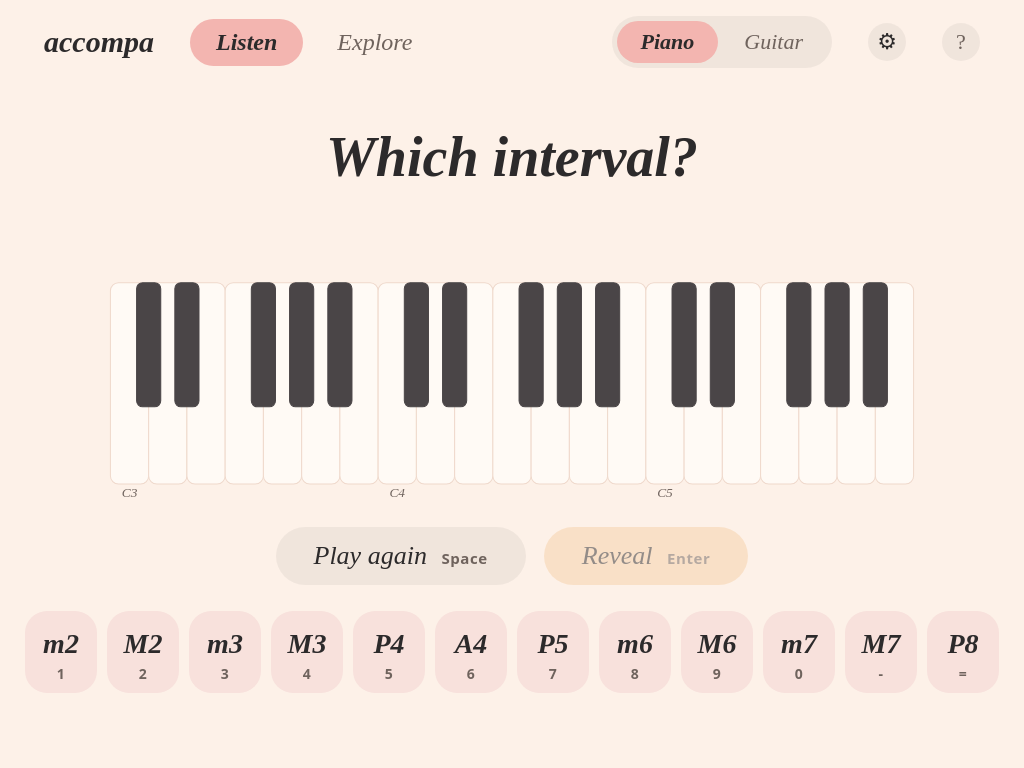
Test: chord Listen › disables Direction and Root in Chords and restores the interval question
Click the button named "Setup" at (887, 42), box [868,23,906,61]
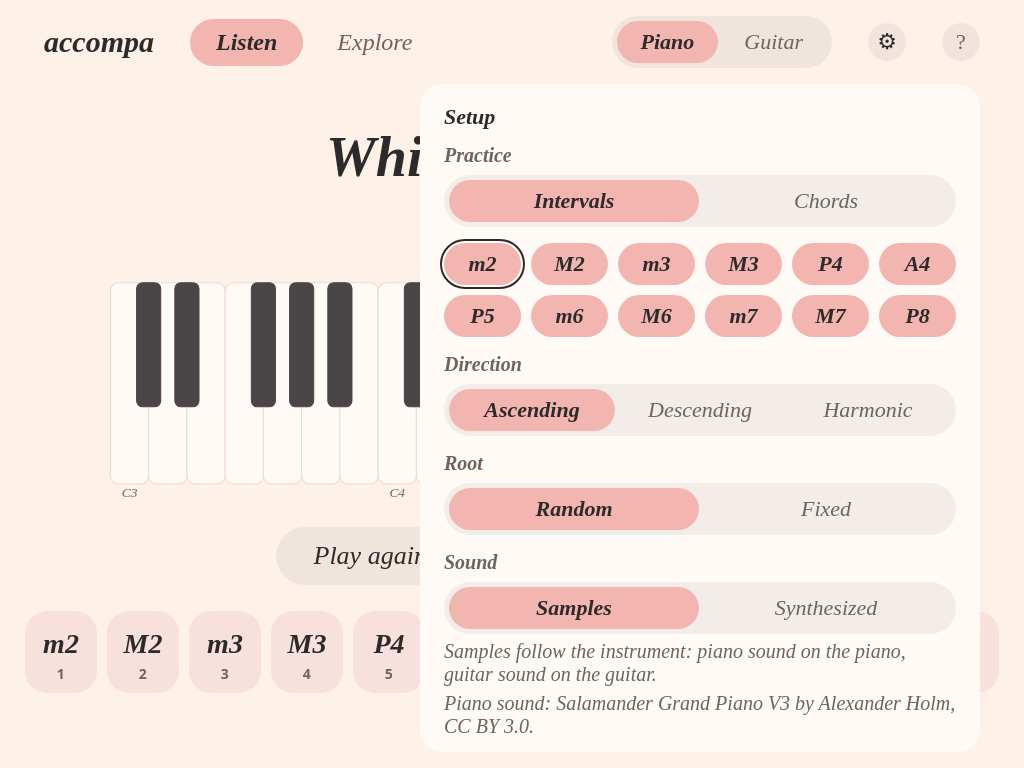
Click the radio button labelled "Chords" at (826, 200), box [794,188,858,213]
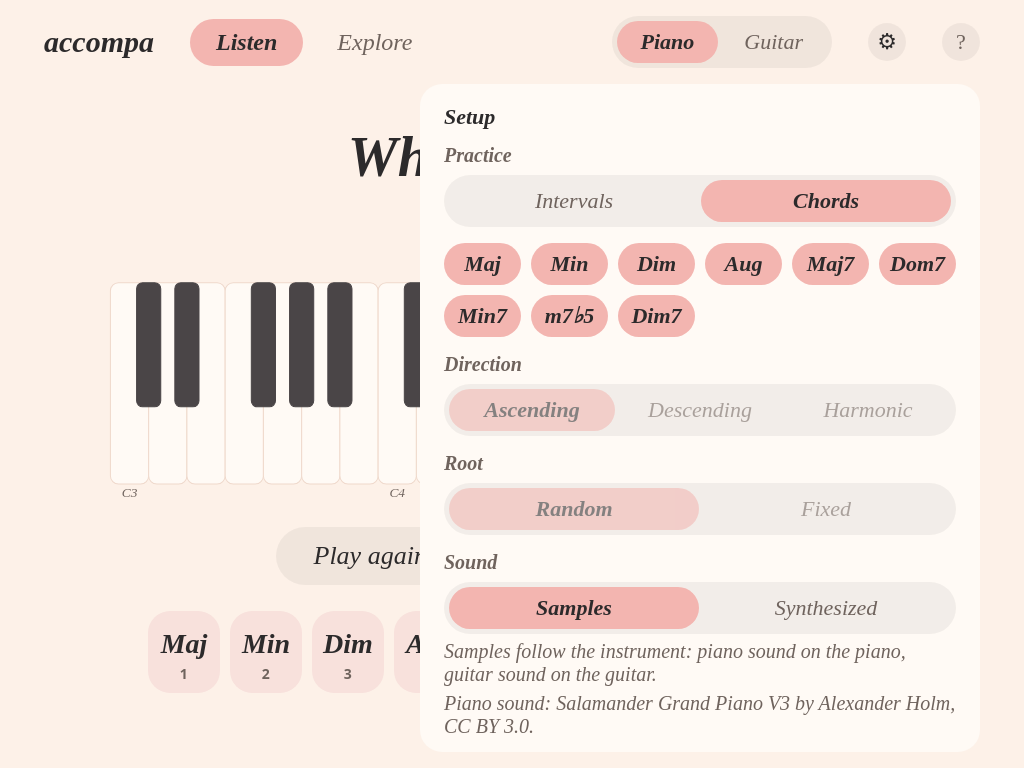
Now the radio button labelled "Ascending" is disabled, box [449,389,615,431]
Now the radio button labelled "Fixed" is disabled, box [801,496,851,521]
Click the radio button labelled "Intervals" at (574, 200), box [535,188,613,213]
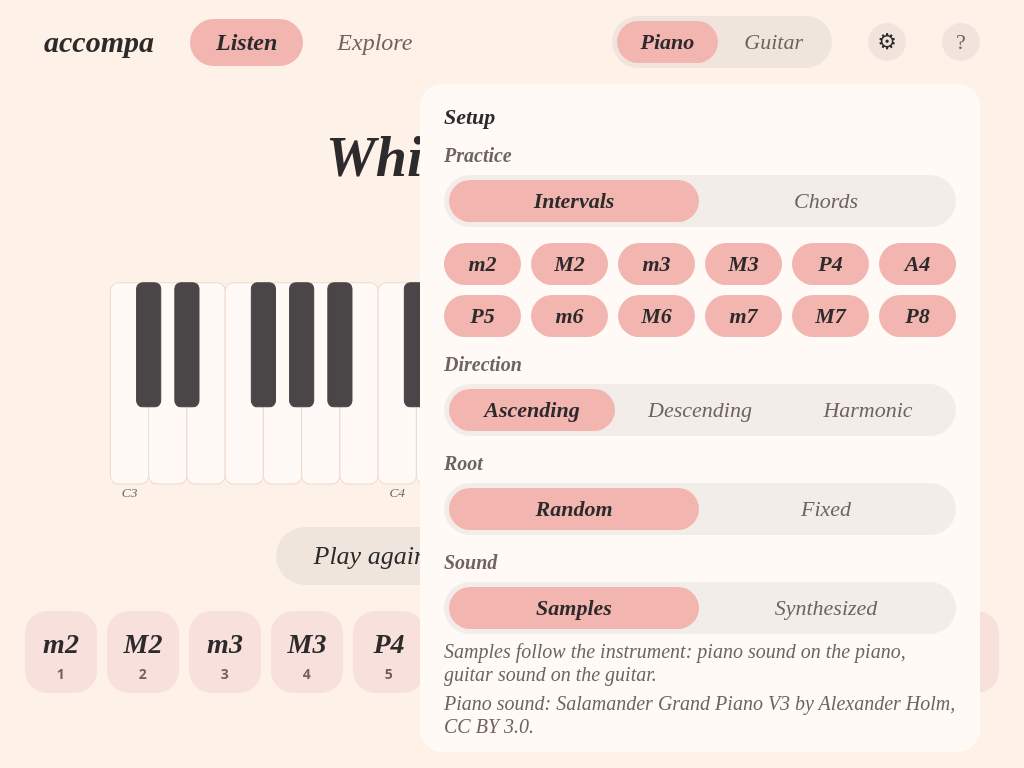
Now the radio button labelled "Ascending" is enabled, box [449,389,615,431]
Now the text "Which interval?" is shown, box [326,128,698,187]
